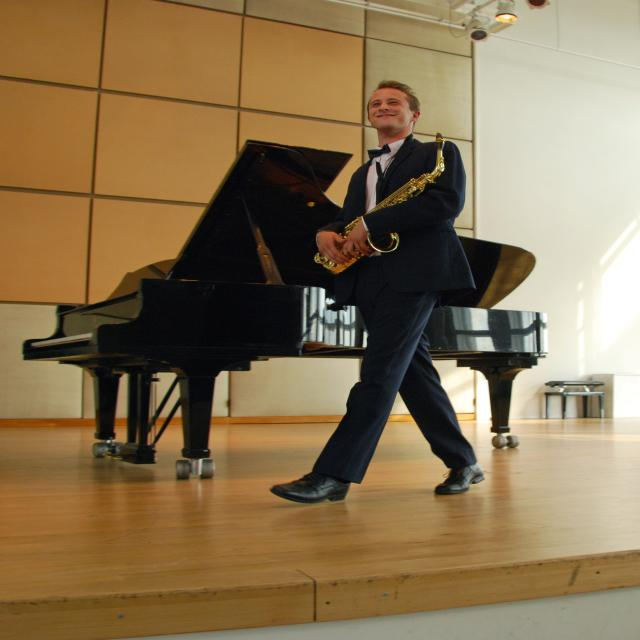saxophone: (306, 131, 464, 275)
